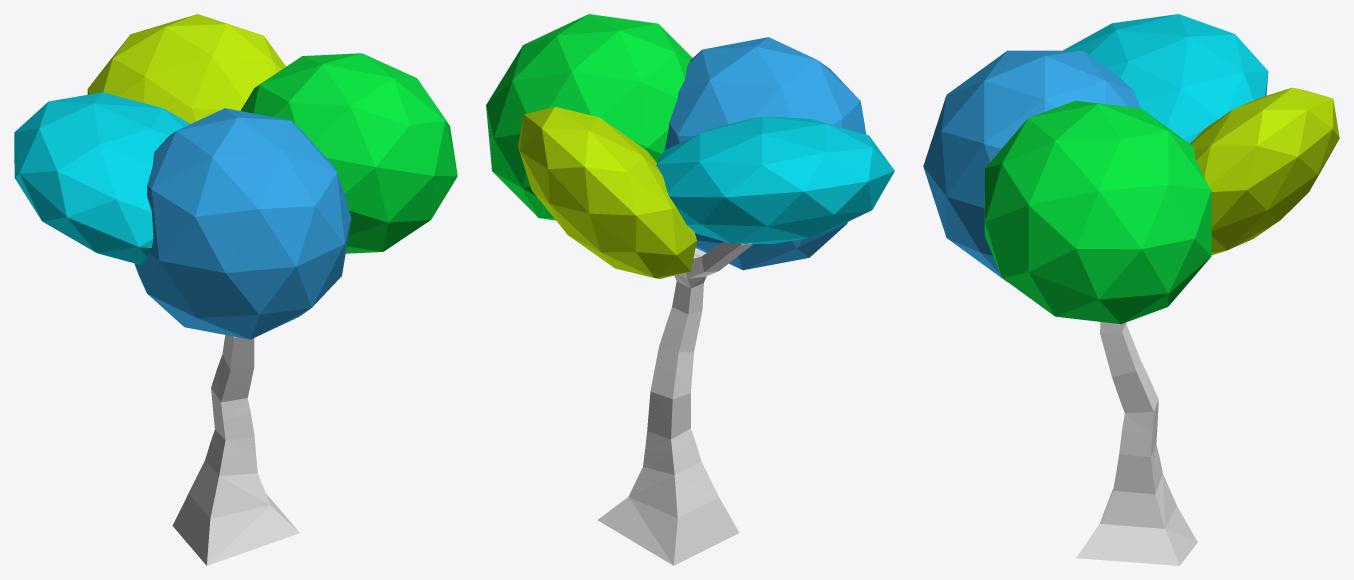
Rendered from tree1.fbx.
3 views of the same model, side by side, from view 1: azimuth 30°, elevation 25°; view 2: azimuth 150°, elevation 25°; view 3: azimuth 270°, elevation 25° (orthographic). The views are drawn at different scales.
Parts seen in each view (by area): view 1: tree1; view 2: tree1; view 3: tree1.
Part boxes in pixels (x1=…): tree1: x1=14, y1=14, x2=457, y2=565; tree1: x1=486, y1=14, x2=894, y2=565; tree1: x1=923, y1=14, x2=1339, y2=565.
Bounding box in the file's own units: 627 × 720 × 554.
